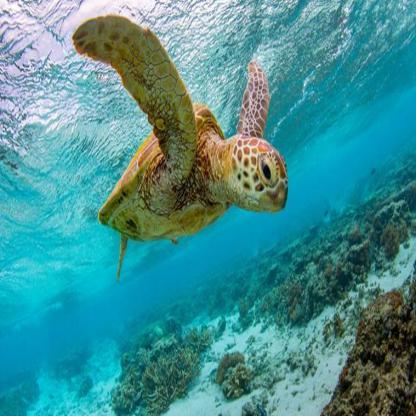turtle: (226, 126, 290, 222)
